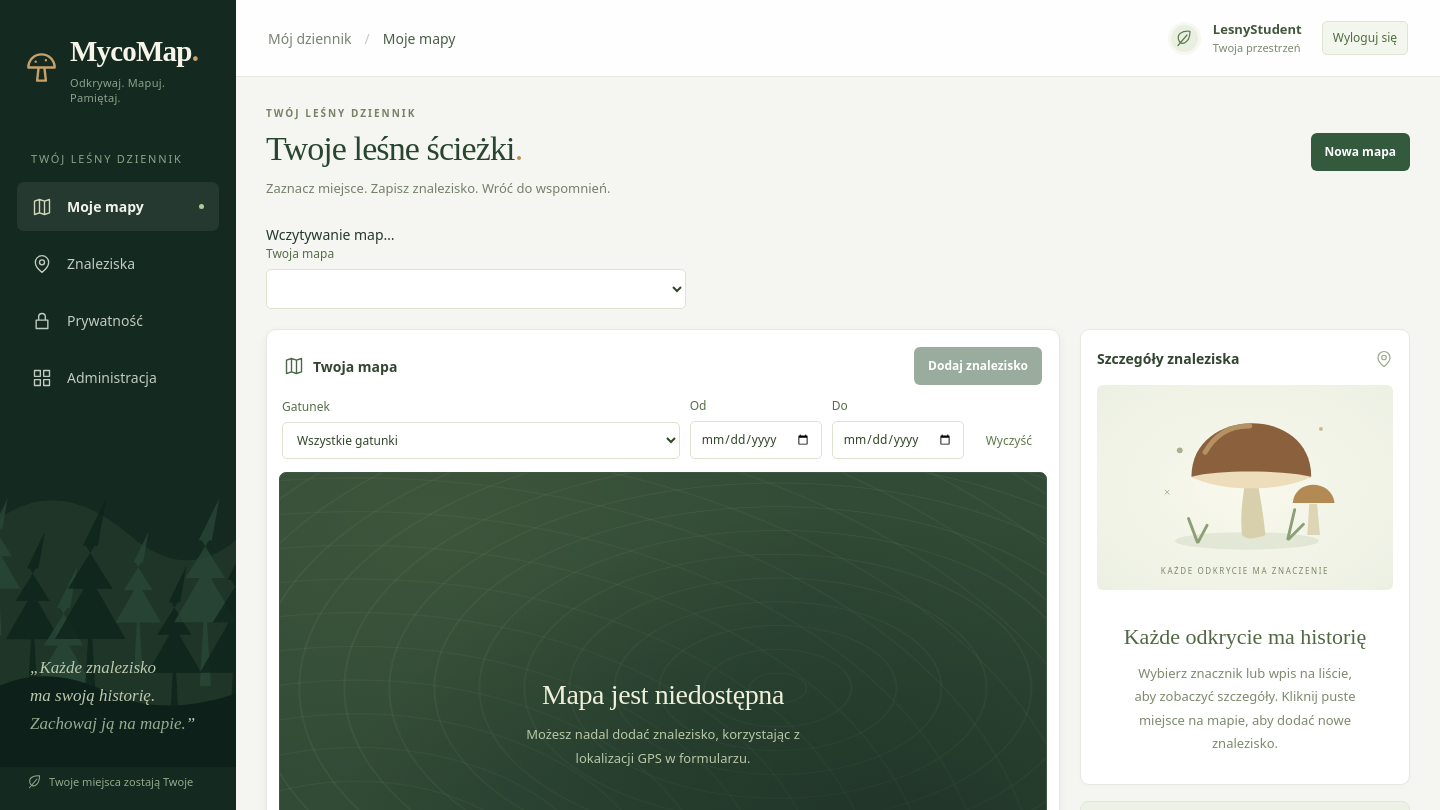
Test case: administrator ma panel i widzi odmowę odebrania dostępu ostatniemu administratorowi
Earlier steps of the test are not shown.
Click the link "Administracja". click: x=94, y=378
box: [32, 368, 157, 388]
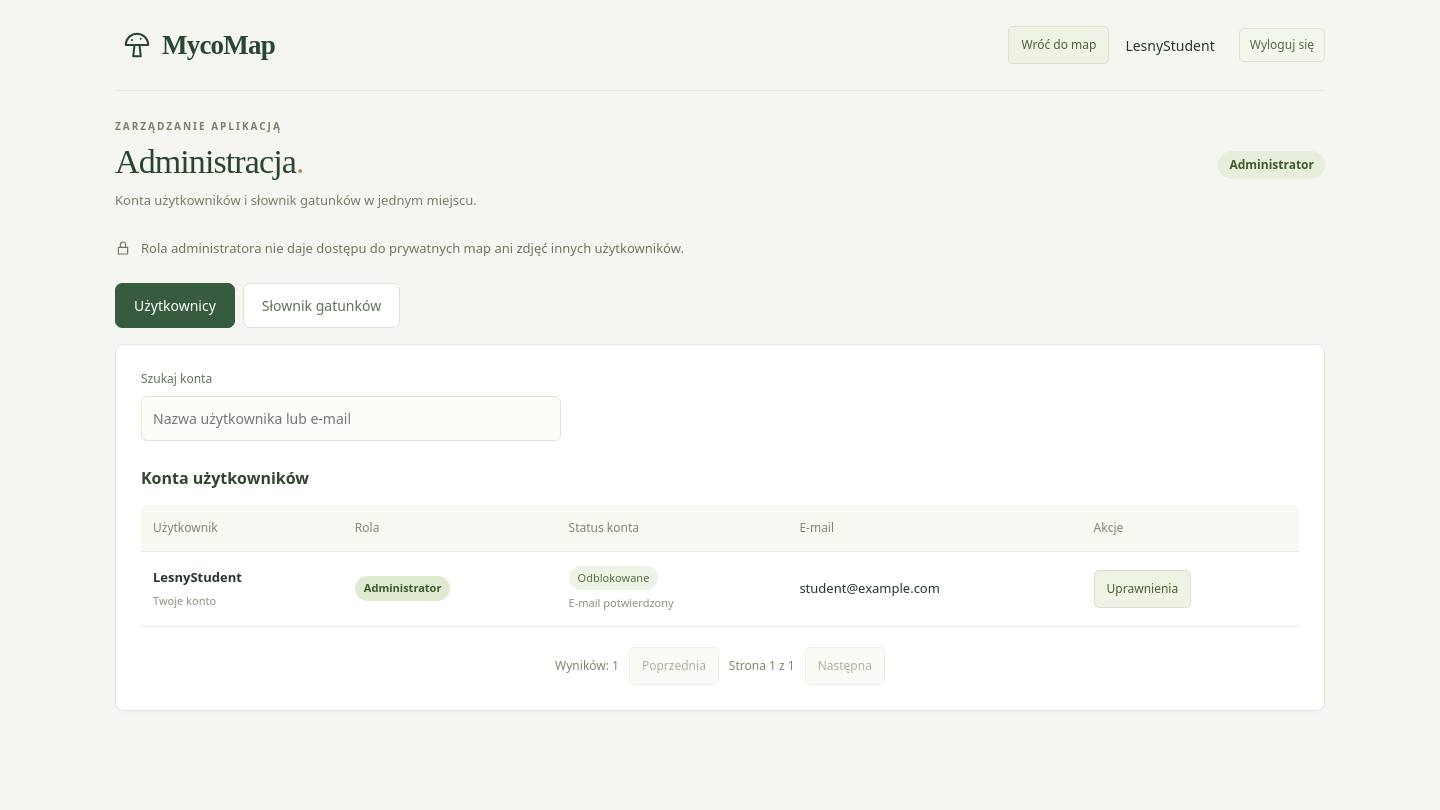
Now the heading "Administracja." is shown, box [115, 142, 304, 180]
Click the button "Uprawnienia". click: x=1142, y=589
box: [1094, 570, 1191, 608]
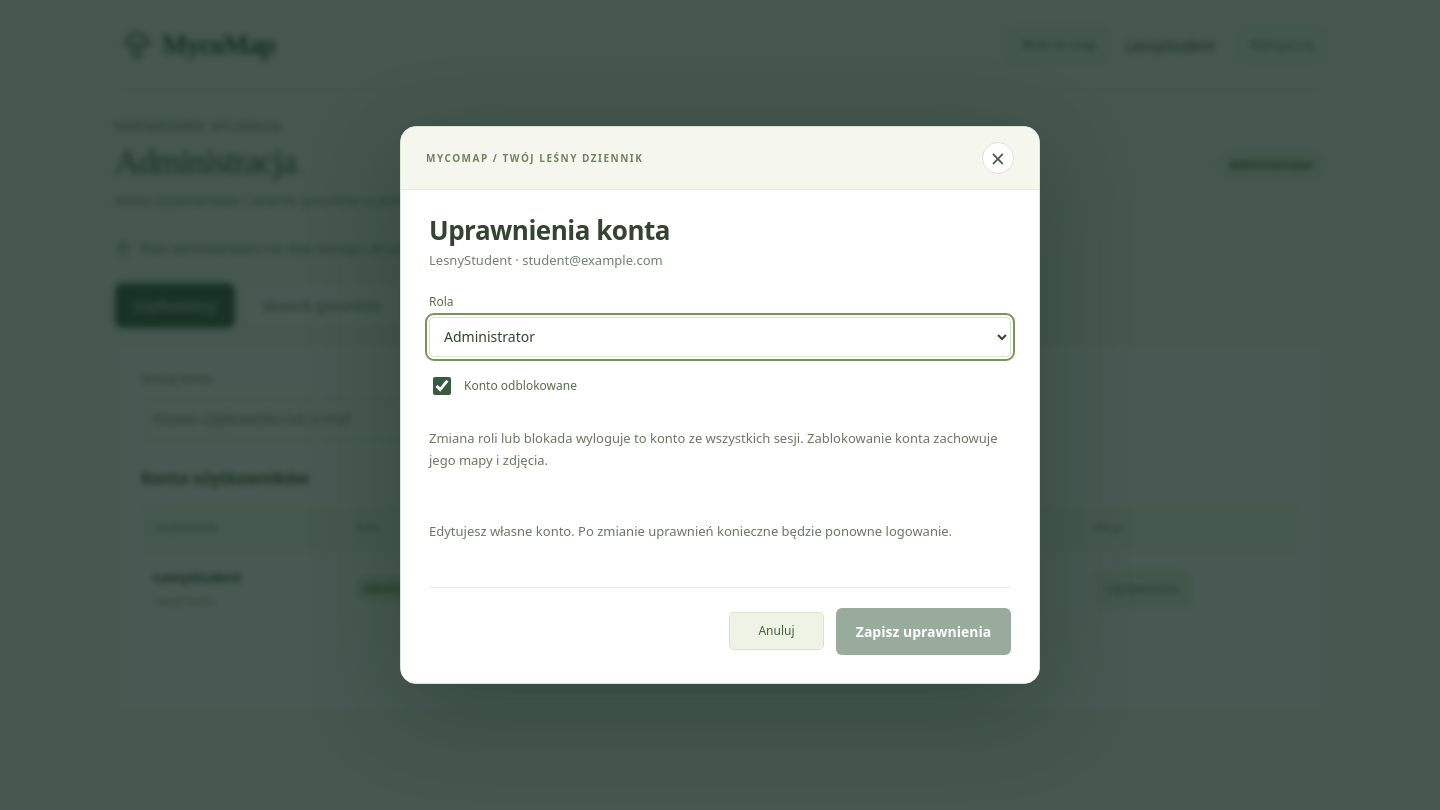
Select "Użytkownik" in the dropdown labelled "Rola". click: x=720, y=337
box: [429, 317, 1011, 357]
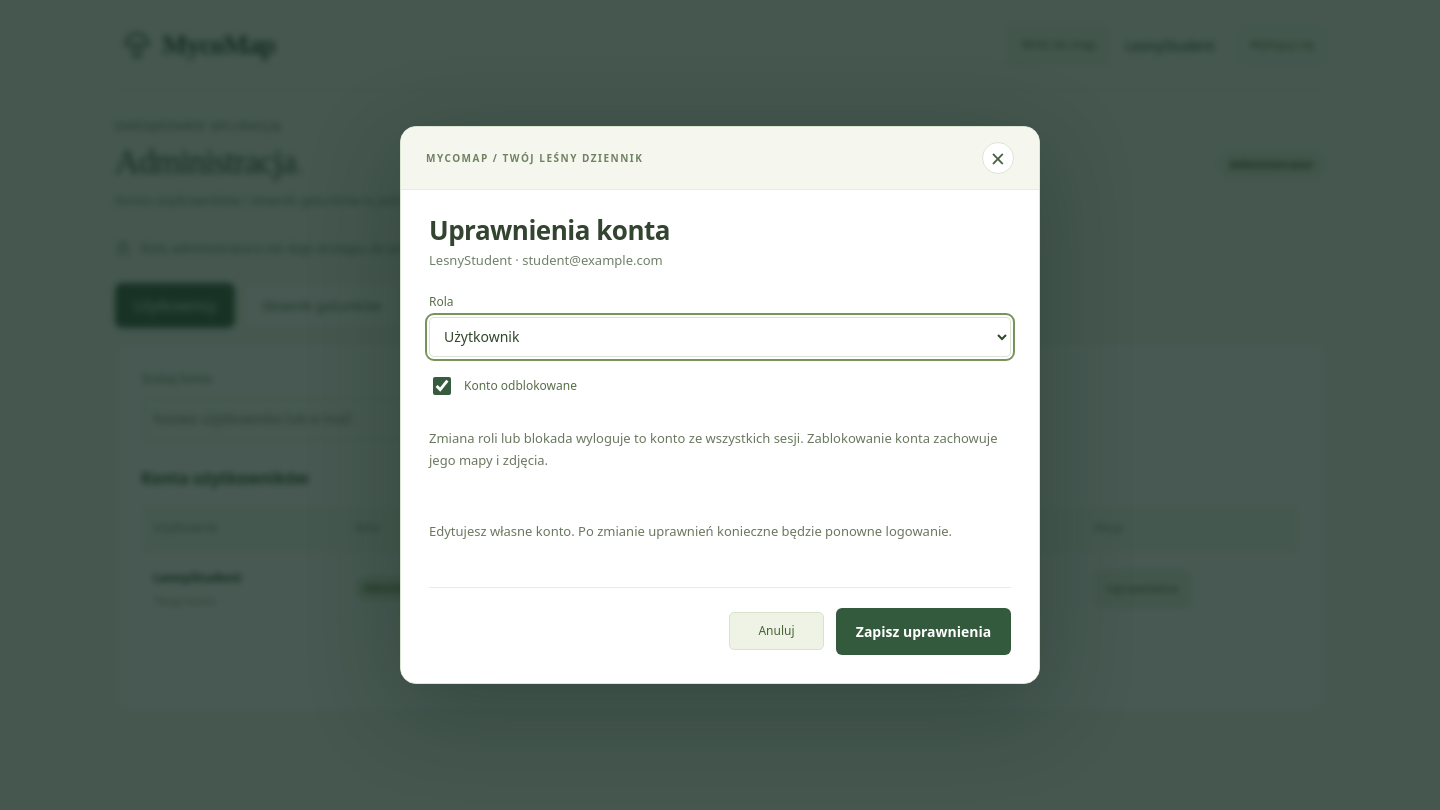
Click the button "Zapisz uprawnienia". click: x=924, y=631
box: [836, 608, 1011, 655]
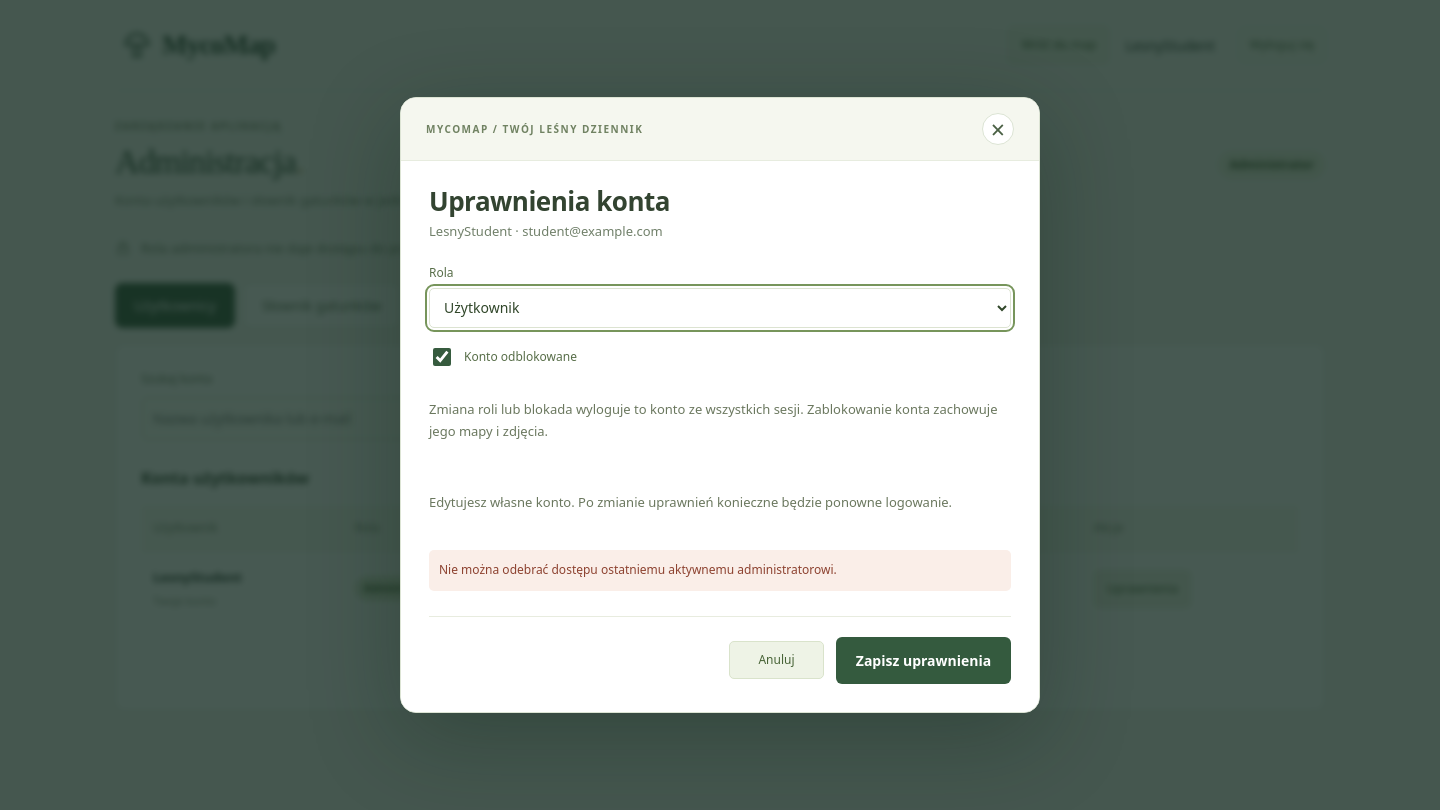
Now the message shows "ostatniemu aktywnemu administratorowi", box [439, 561, 837, 578]
Click the button "Anuluj". click: x=776, y=660
box: [729, 641, 824, 679]
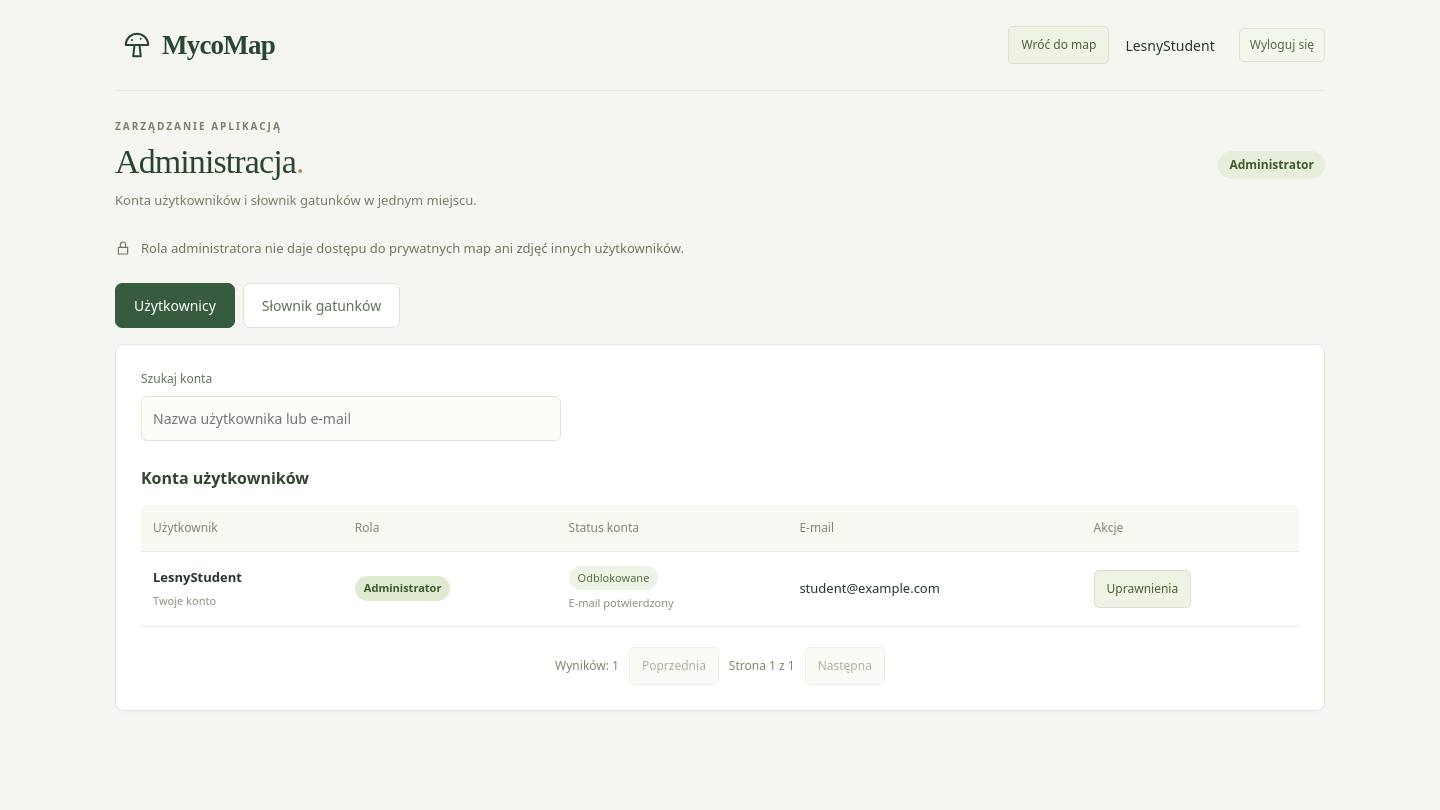
Click the button "Słownik gatunków". click: x=322, y=305
box: [243, 283, 400, 328]
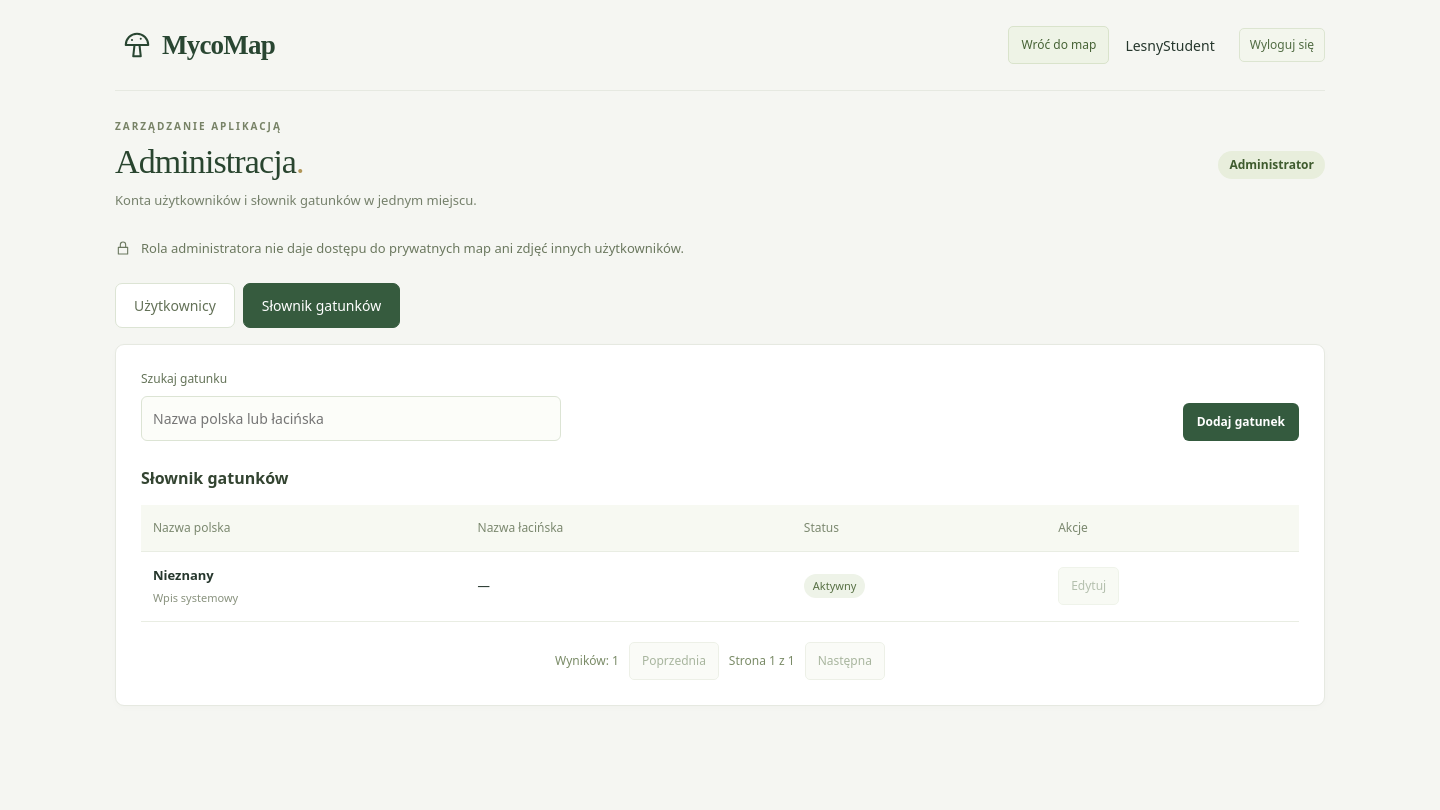
Now the button "Edytuj" is disabled, box [1058, 567, 1119, 605]
Now the button "Dodaj gatunek" is enabled, box [1183, 403, 1299, 441]
